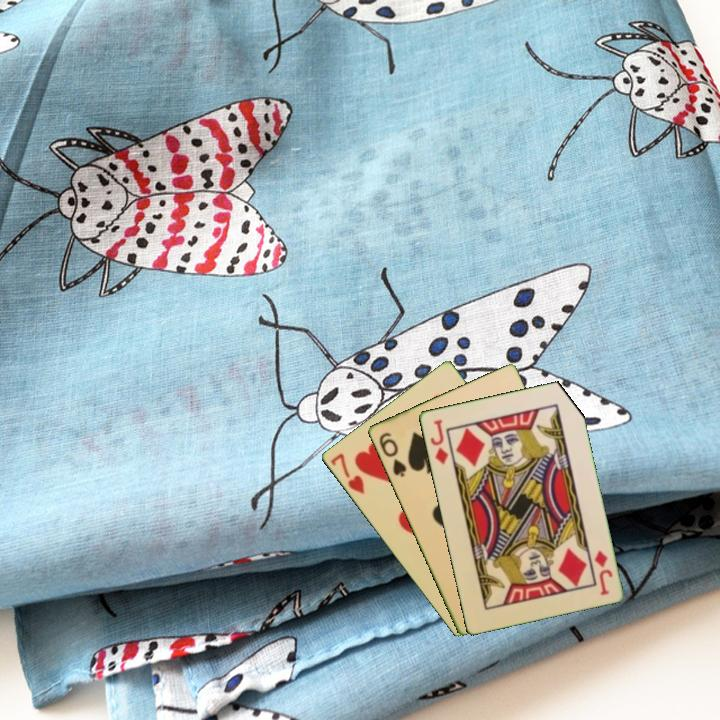6s: (375, 429, 409, 480)
7h: (326, 449, 367, 497)
Jd: (426, 416, 451, 467), (590, 547, 615, 598)
